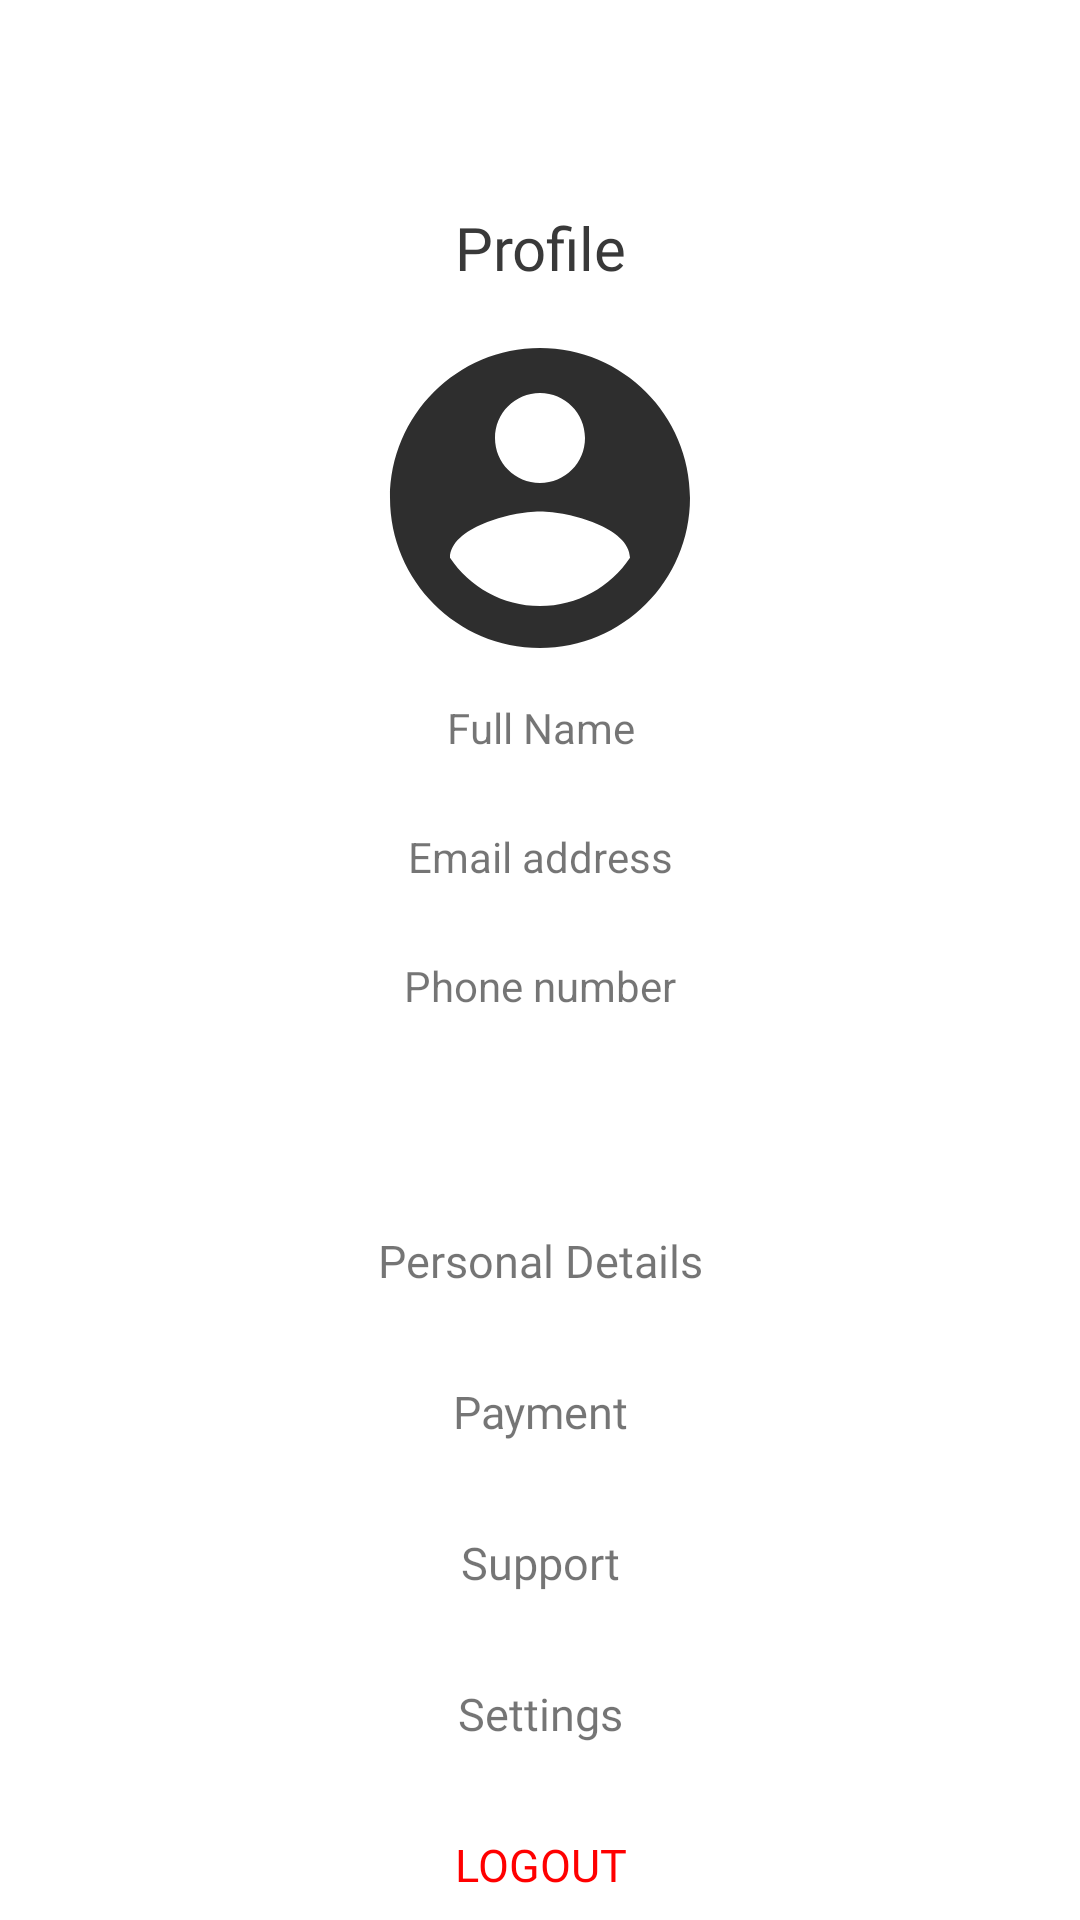

Point at icon controls on the screen. Image size 1080x1920, points as [x,y].
account circle: [540,498]
